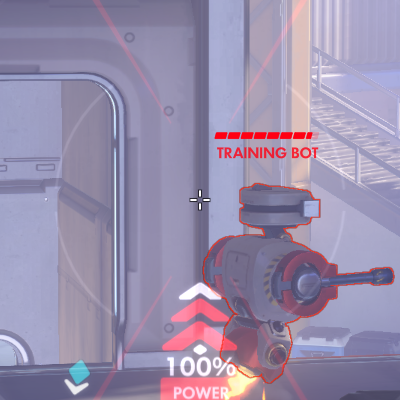hpbar: (214, 132, 320, 140)
